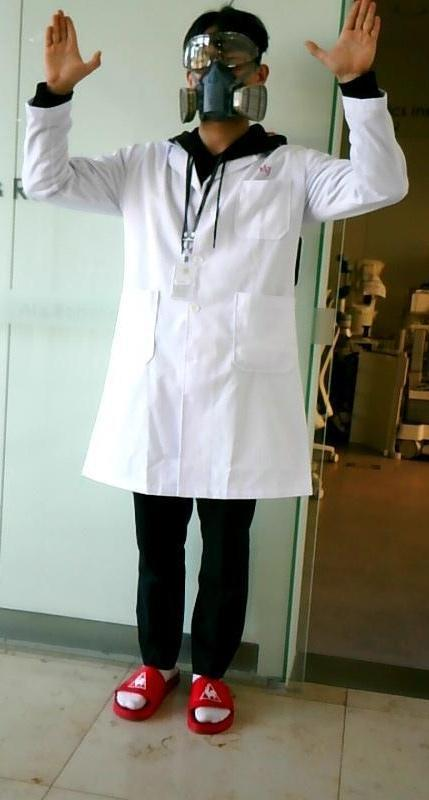lab_coat: (82, 144, 322, 488)
